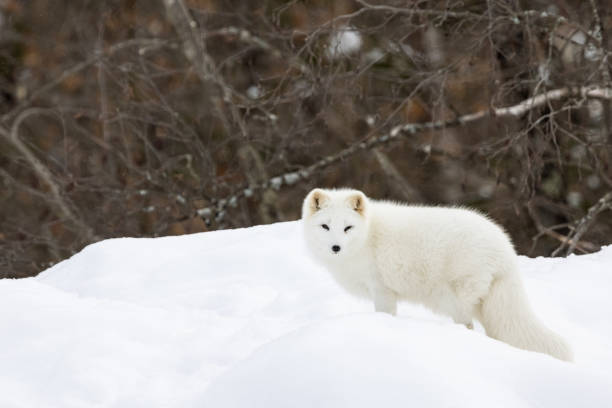arcticfox: (315, 201, 370, 277)
